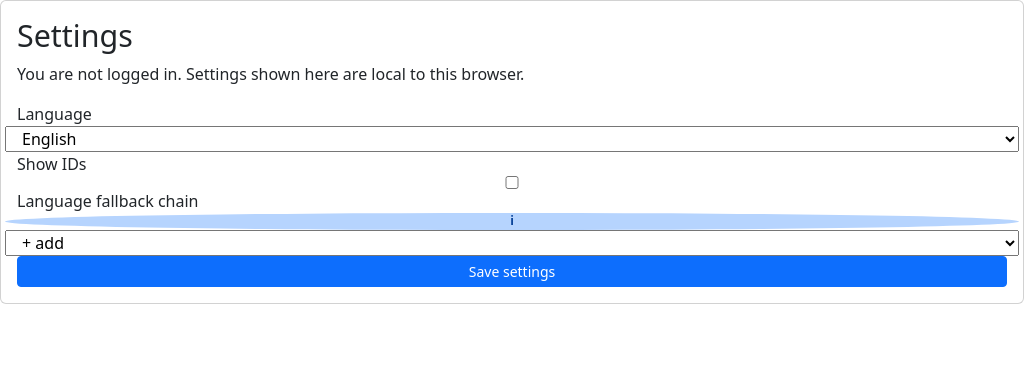
Scenario: SettingsView › keeps settings in the browser when not logged in
Expected: the text with test id "settings-not-logged-in" is shown, [17, 62, 524, 84]
Select "sv" in the dropdown with test id "settings-fallback-add-select" at (512, 243), box [5, 230, 1019, 256]
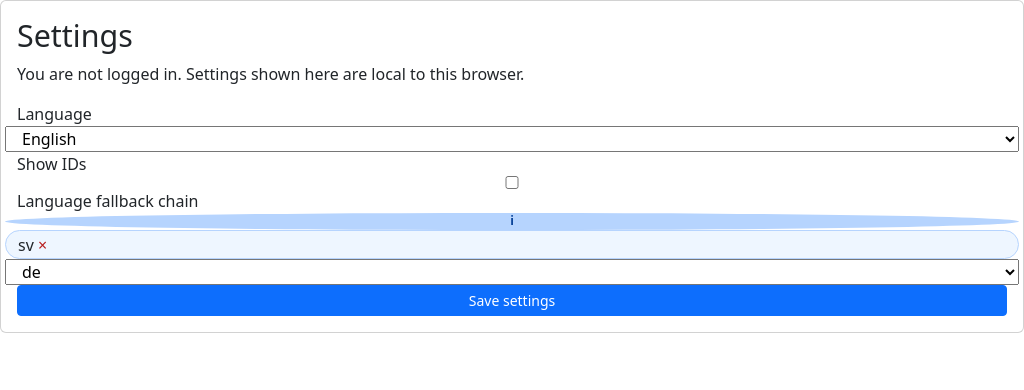
Click the button with test id "settings-save".
click(512, 301)  # box [17, 285, 1007, 316]
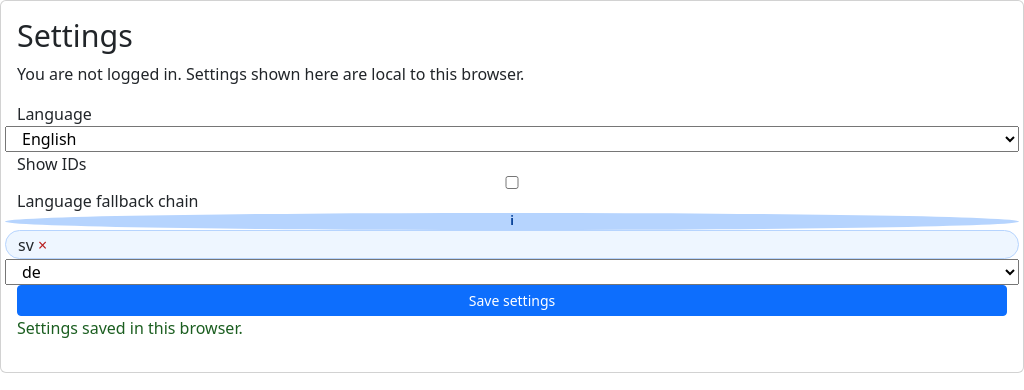
Expected: the text with test id "settings-saved" shows "this browser", [17, 317, 243, 339]
